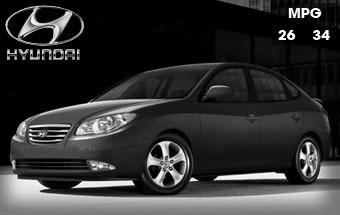car: (9, 61, 334, 199)
